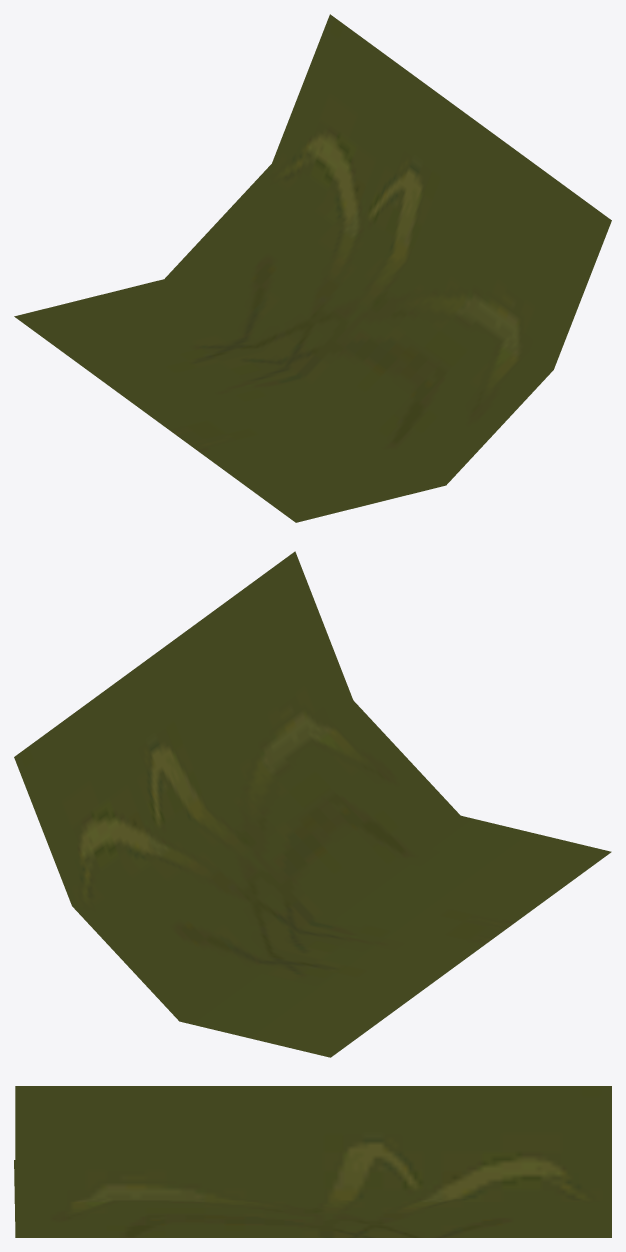
Rendered from grass_clump_00b.fbx.
3 renders of one model, top to bottom at view 1: azimuth 30°, elevation 25°; view 2: azimuth 150°, elevation 25°; view 3: azimuth 270°, elevation 25°, orthographic. The views are drawn at different scales.
Visible parts, largest first — view 1: grass_clump_00b; view 2: grass_clump_00b; view 3: grass_clump_00b.
Part boxes in pixels (left/top/right/bottom): grass_clump_00b: left=14, top=14, right=611, bottom=522; grass_clump_00b: left=14, top=551, right=611, bottom=1057; grass_clump_00b: left=14, top=1086, right=611, bottom=1237.
Size of the model in its own units: 72.32 by 49 by 112.
